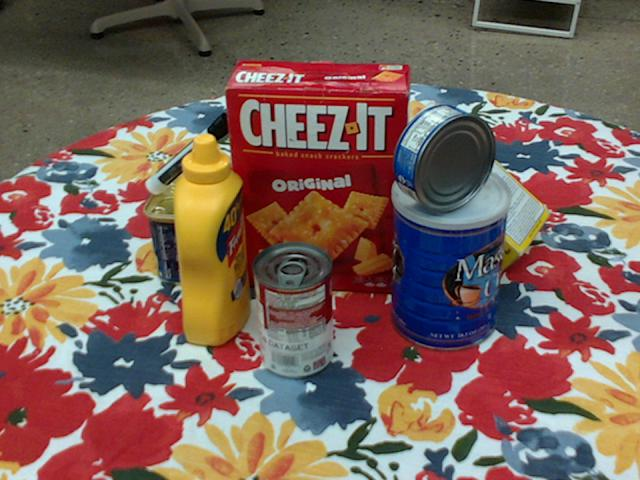cracker_box: (227, 60, 414, 289)
gelatin_box: (187, 150, 273, 229)
large_marker: (146, 112, 237, 194)
master_chef_can: (390, 164, 509, 353)
mug: (341, 126, 426, 225)
mustard_bottle: (173, 134, 249, 347)
potted_meat_can: (143, 166, 221, 286)
sugar_box: (375, 102, 552, 275)
tomato_soup_can: (251, 242, 332, 378)
tuna_fish_can: (395, 104, 496, 213)
